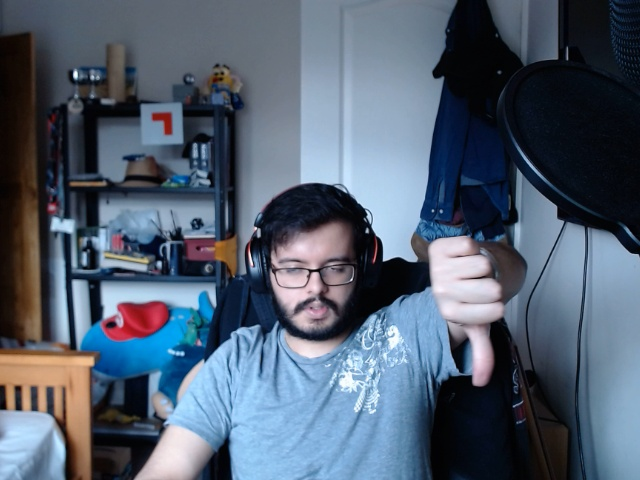Thumbs down: (418, 225, 519, 395)
